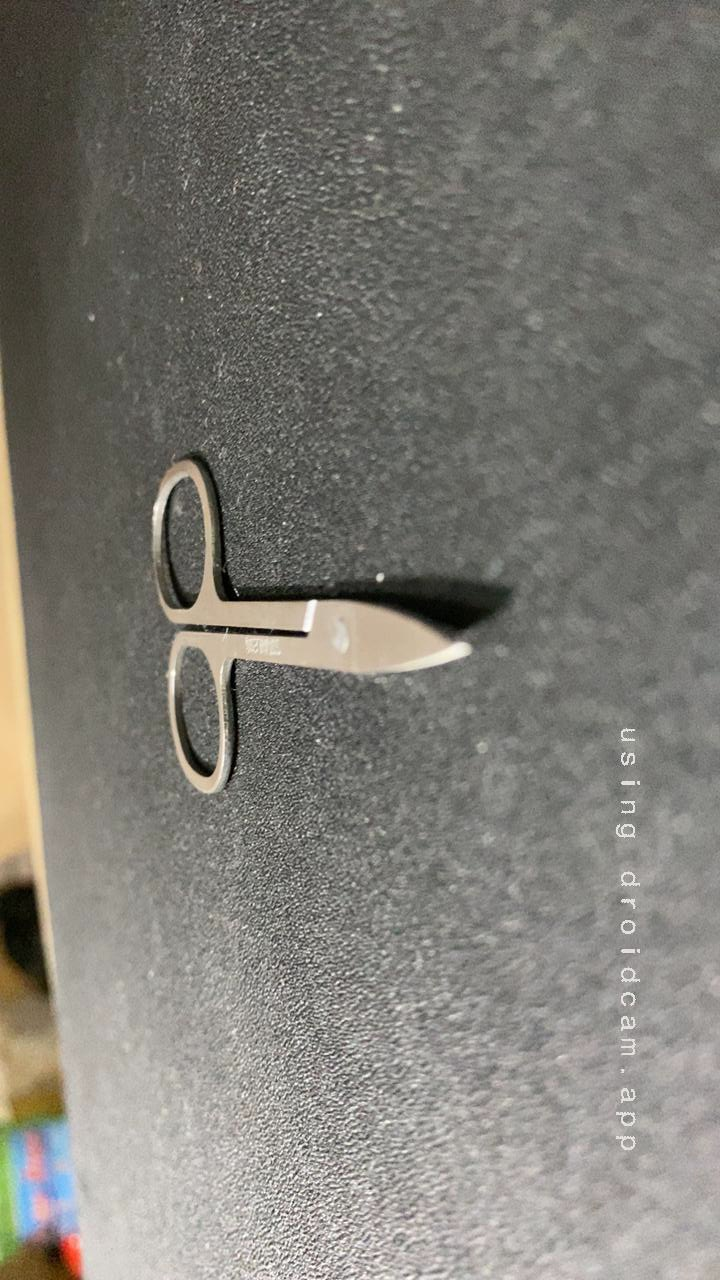scissor: (0, 409, 354, 820)
